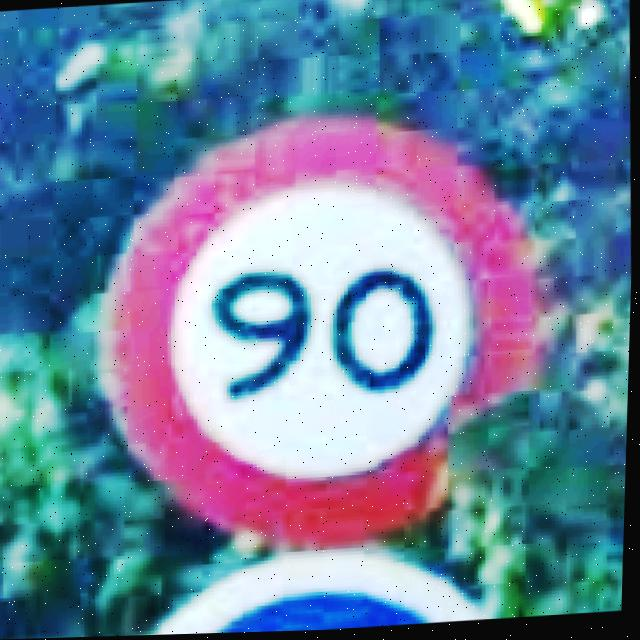max90: (82, 97, 561, 565)
